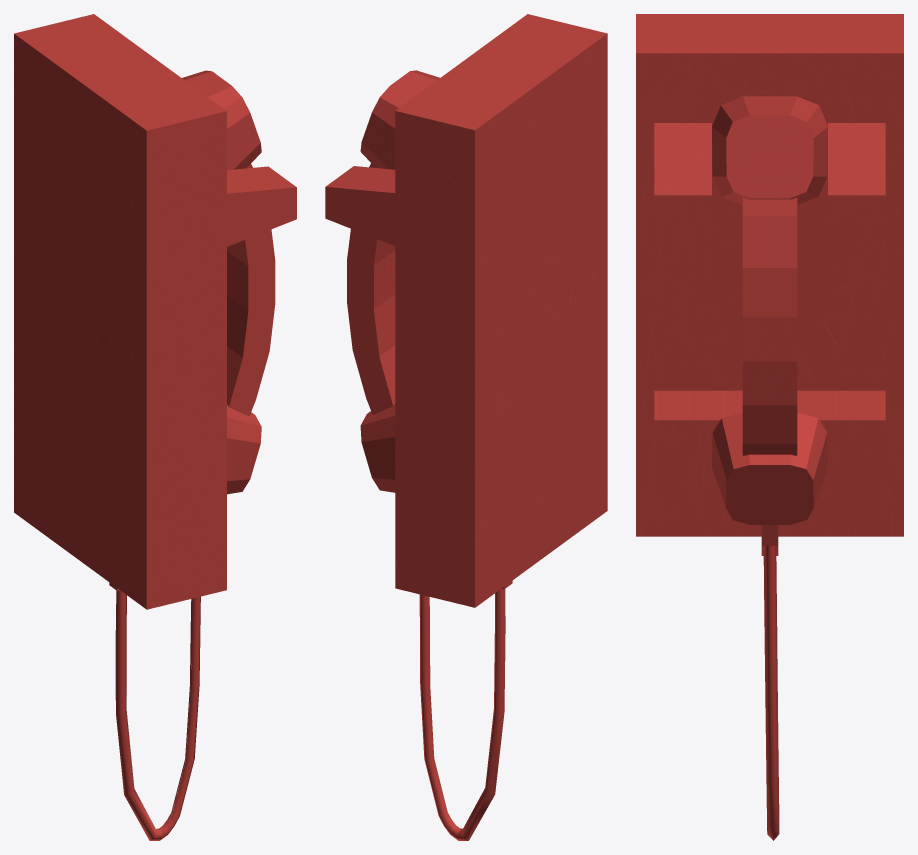
File: Prop_Telephone.fbx
The picture shows the model from 3 angles, left to right: view 1: azimuth 30°, elevation 25°; view 2: azimuth 150°, elevation 25°; view 3: azimuth 270°, elevation 25°; orthographic projection.
Parts seen in each view (by area): view 1: Telephone; view 2: Telephone; view 3: Telephone.
Part boxes in pixels (box(x1,y1,x2,y2)): Telephone: box(14, 14, 296, 840); Telephone: box(325, 14, 607, 840); Telephone: box(636, 14, 903, 840).
Size of the model in its own units: 50.95 by 209 by 64.65.
Materials: 1 (1 with a texture image).
